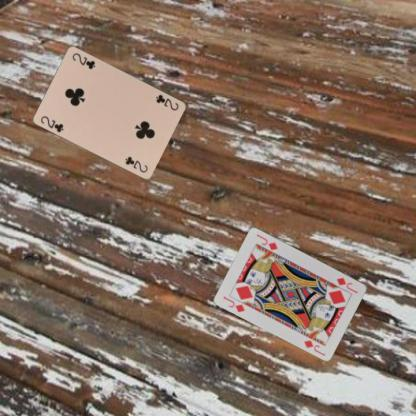2c: (38, 113, 65, 134), (154, 92, 180, 111)
Jd: (334, 275, 359, 295), (221, 294, 246, 313)
